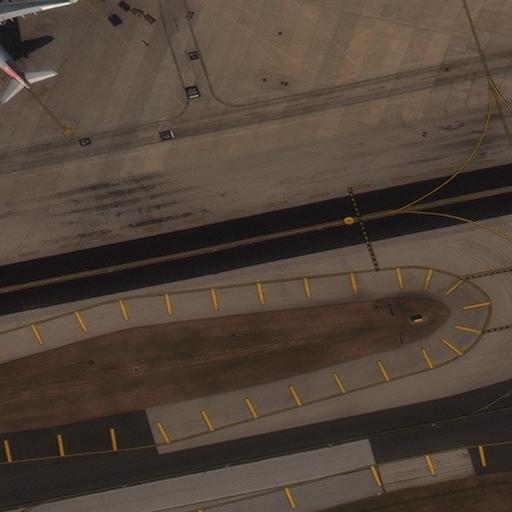Large Civil Transport: (0, 0, 69, 87)
